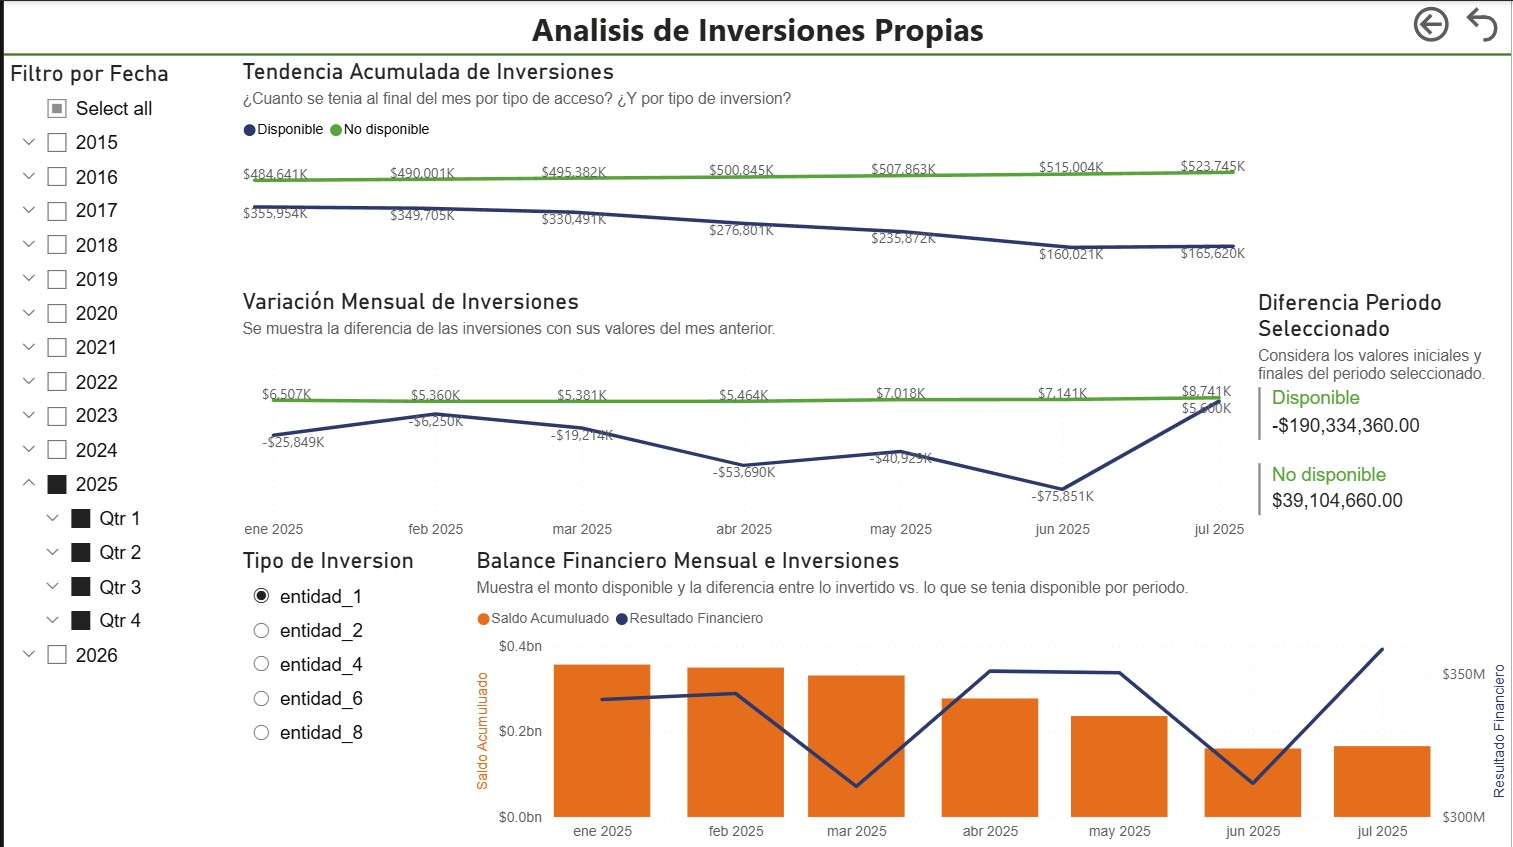

Layout of this report page (visuals, bound fields, positions):
{"tool":"powerbi","page":{"name":"Reporte Inversiones","canvas":[1280,720],"ordinal":5},"visuals":[{"type":"group","id":"g1","title":"Title & Line","box":[0,0,1280,57.4],"z":0},{"type":"textbox","box":[259.8,0,760.4,48.1],"z":0,"group":"g1"},{"type":"shape","box":[0,32.8,1280,24.6],"z":1000,"group":"g1"},{"type":"slicer","title":"Filtro por Fecha","fields":{"Values":["Calendario.Fecha.Variation.Date Hierarchy.Year","Calendario.Fecha.Variation.Date Hierarchy.Quarter","Calendario.Fecha.Variation.Date Hierarchy.Month"]},"box":[0,50.1,197.8,668.6],"z":1000},{"type":"lineChart","title":"Variación Mensual de Inversiones","fields":{"Series":["inversiones.tipo_acceso"],"Y":["DAX Measures.Diferencia Mensual"],"Category":["Calendario.PrimerDiaMes"]},"box":[197.3,243.2,860.7,221.5],"z":2000},{"type":"lineChart","title":"Tendencia Acumulada de Inversiones","fields":{"Series":["inversiones.tipo_acceso"],"Y":["Sum(inversiones.monto)"],"Category":["Calendario.PrimerDiaMes"]},"box":[197.3,48.4,860.7,194.8],"z":3000},{"type":"actionButton","box":[1191.7,0,43.3,39.5],"z":4000},{"type":"slicer","title":"Tipo de Inversion","fields":{"Values":["inversiones.tipo_inversion"]},"box":[197.8,462.9,196.5,255.8],"z":5000},{"type":"actionButton","box":[1235,0,44.6,39.5],"z":6000},{"type":"lineClusteredColumnComboChart","title":"Balance Financiero Mensual e Inversiones","fields":{"Y":["DAX measure.Saldo Actual Inversiones"],"Category":["Calendario.PrimerDiaMes"],"Y2":["DAX measure.Resultado Financiero a la Fecha"]},"box":[395.6,462.9,884.8,257.1],"z":7000},{"type":"multiRowCard","title":"Diferencia Periodo Seleccionado","fields":{"Values":["inversiones.tipo_acceso","DAX.Diferencia Periodo Seleccionado"]},"box":[1059.3,244.5,221.5,219],"z":8000}]}

Visuals, with their boxes in screenshot pixels (x1, y1, x2, y2), scaled from the page's 1280x720 canvas onto the 1513x847 screenshot:
"Title & Line" group: 0, 0, 1512, 68
textbox: 307, 0, 1206, 57
shape: 0, 39, 1512, 68
"Filtro por Fecha" slicer: 0, 59, 234, 845
"Variación Mensual de Inversiones" lineChart: 233, 286, 1251, 547
"Tendencia Acumulada de Inversiones" lineChart: 233, 57, 1251, 286
actionButton: 1409, 0, 1460, 46
"Tipo de Inversion" slicer: 234, 545, 466, 845
actionButton: 1460, 0, 1512, 46
"Balance Financiero Mensual e Inversiones" lineClusteredColumnComboChart: 468, 545, 1512, 846
"Diferencia Periodo Seleccionado" multiRowCard: 1252, 288, 1512, 545
